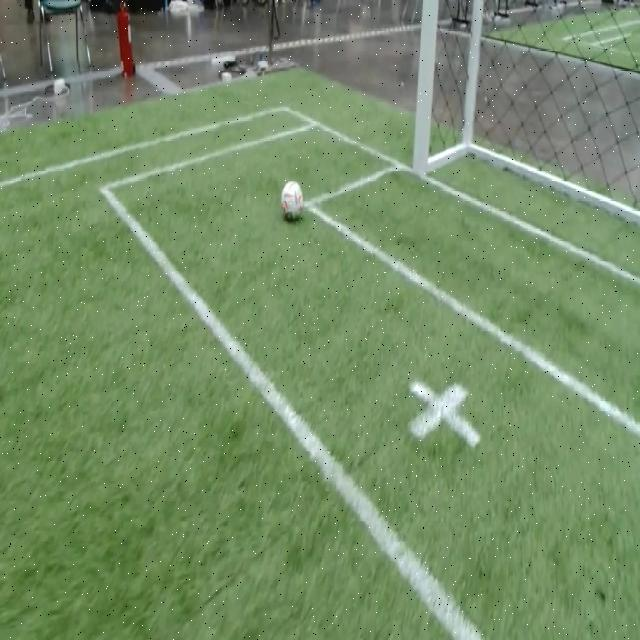ball: (280, 180, 302, 221)
goalpost: (410, 124, 437, 180)
